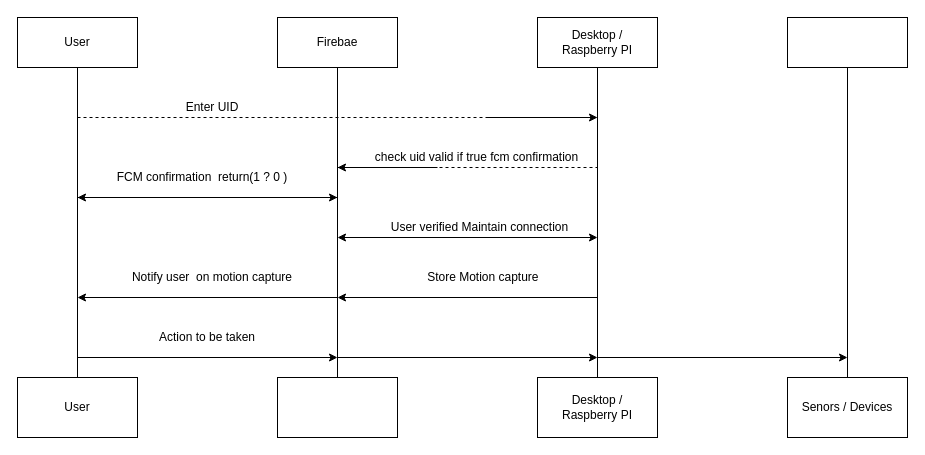
The diagram is 925 pixels wide and 455 high, and some of its shapes have lost their labels. Here are the shapes that lost their labels. From the top down, the centre of each, then its label:
the point at 847,42: Ariduno
the point at 337,407: Firebase
